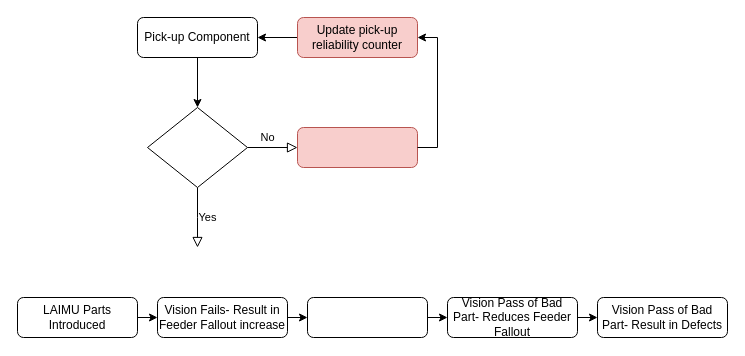
The diagram is 745 pixels wide and 356 high, and some of its shapes have lost their labels. The box of each missing label's shape, as (x1, y1, x2, y2) in pixels:
Component passes vision?: (146, 106, 248, 188)
Reject Component: (296, 126, 418, 168)
Technician Modifies Vision Algorithm: (306, 296, 428, 338)
